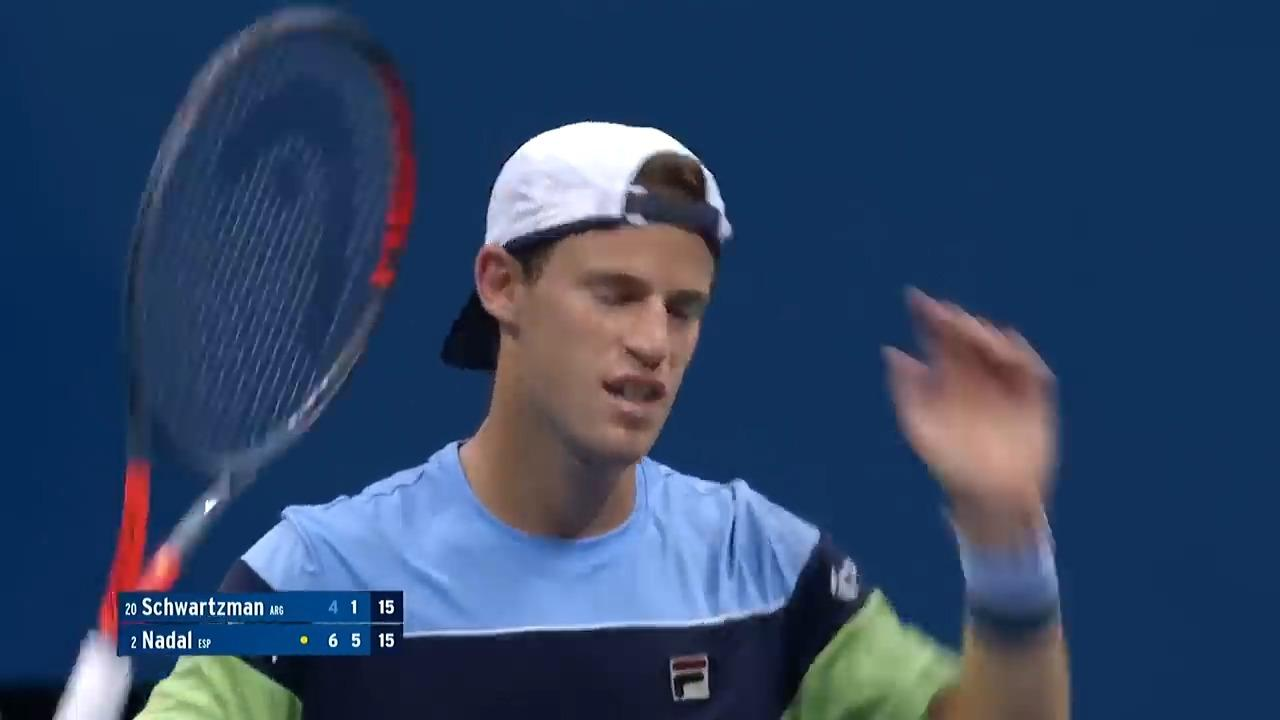tennis racket: (54, 9, 415, 719)
